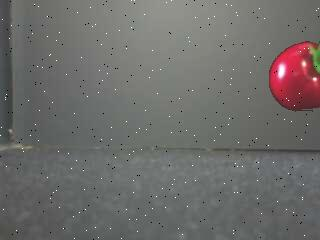Tomato: (266, 39, 320, 114)
